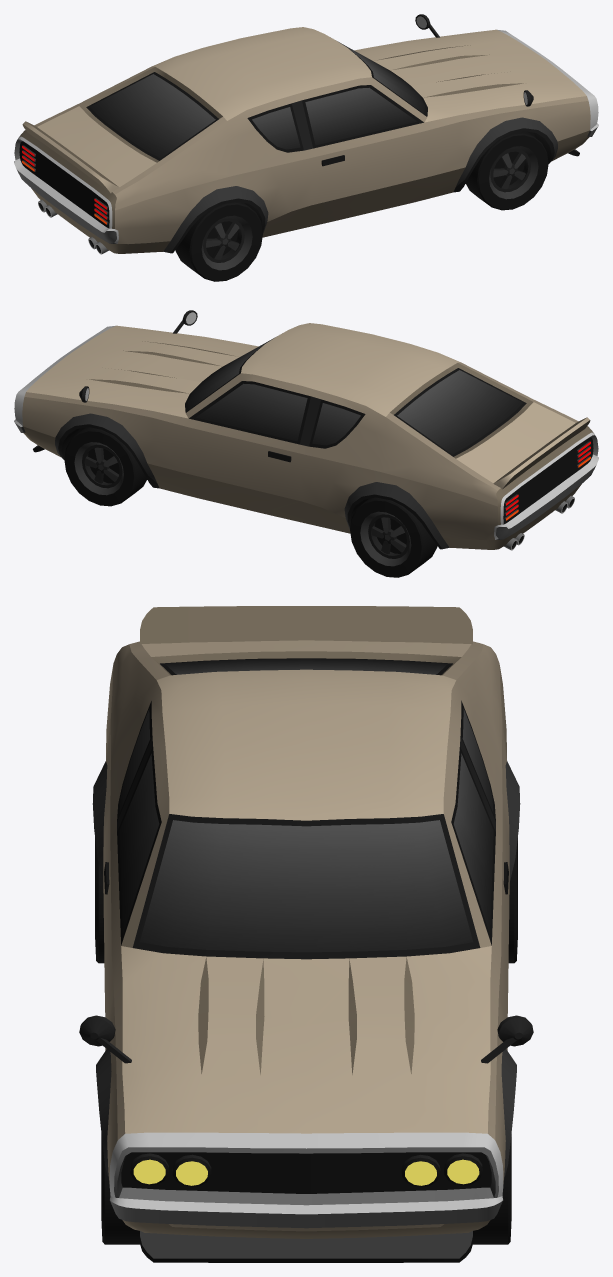
Rendered from Car_249.glb.
3 renders of one model, top to bottom at view 1: azimuth 30°, elevation 25°; view 2: azimuth 150°, elevation 25°; view 3: azimuth 270°, elevation 25°, orthographic. The views are drawn at different scales.
Visible parts, largest first — view 1: Car_249, wheel_3_Car_249_Wheel_2R, wheel_1_Car_249_Wheel_1R; view 2: Car_249, wheel_2_Car_249_Wheel_2L, wheel_0_Car_249_Wheel_1L; view 3: Car_249, wheel_0_Car_249_Wheel_1L, wheel_1_Car_249_Wheel_1R, wheel_3_Car_249_Wheel_2R, wheel_2_Car_249_Wheel_2L.
Boxes of the visible parts, x1,y1,x2,y2 form: Car_249: [14, 14, 598, 254]; wheel_3_Car_249_Wheel_2R: [175, 201, 262, 281]; wheel_1_Car_249_Wheel_1R: [466, 131, 548, 210]; Car_249: [14, 310, 598, 550]; wheel_2_Car_249_Wheel_2L: [350, 497, 437, 577]; wheel_0_Car_249_Wheel_1L: [64, 427, 146, 506]; Car_249: [79, 606, 533, 1262]; wheel_0_Car_249_Wheel_1L: [473, 1134, 511, 1244]; wheel_1_Car_249_Wheel_1R: [101, 1134, 139, 1244]; wheel_3_Car_249_Wheel_2R: [95, 838, 104, 963]; wheel_2_Car_249_Wheel_2L: [508, 838, 517, 963].
Size of the model in its own units: 4.5 by 1.37 by 1.78.
Materials: 2 (2 with a texture image).
